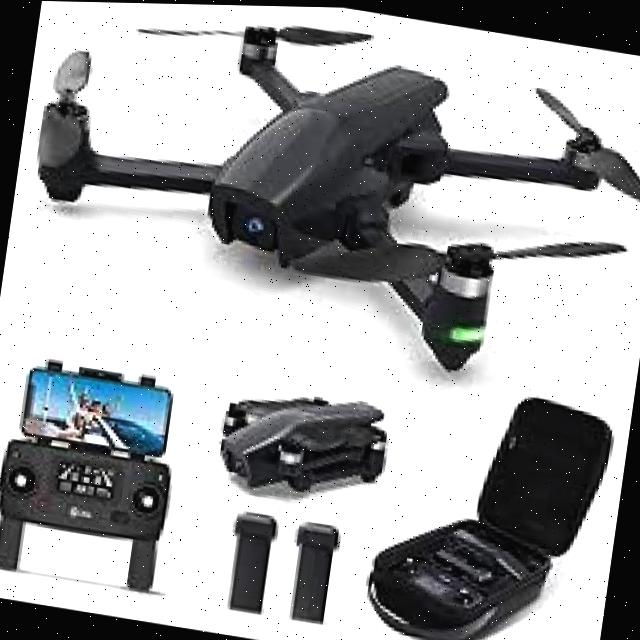drone: (0, 0, 640, 402)
